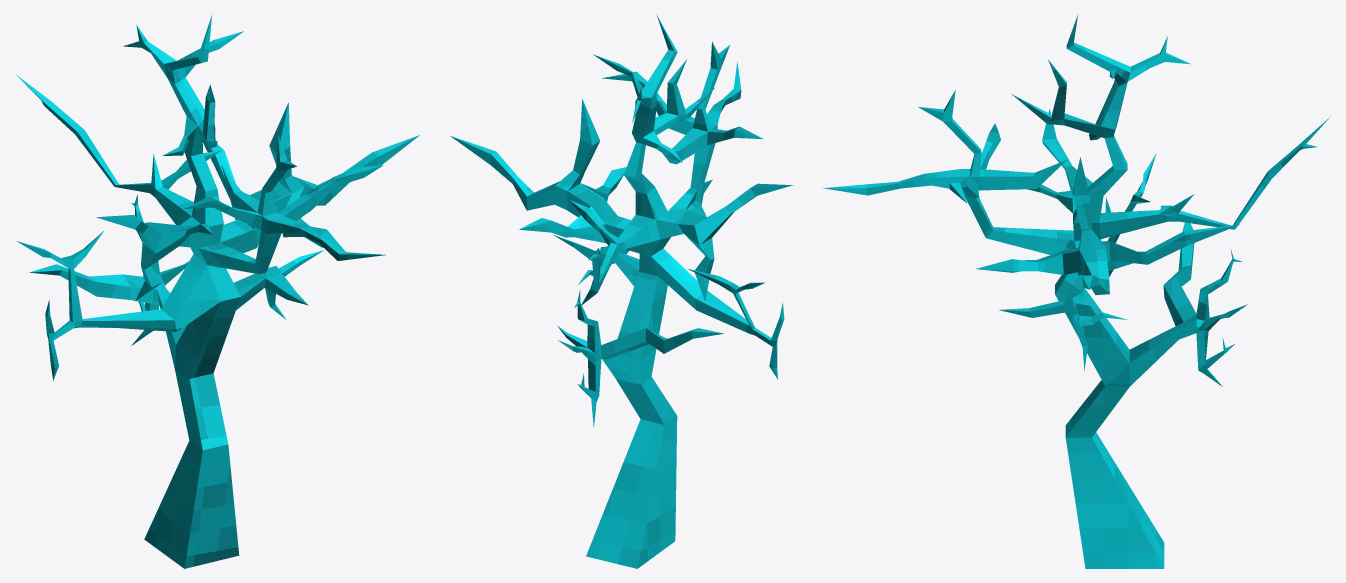
The model's file is IceTree.gltf.
The picture shows the model from 3 angles, left to right: view 1: azimuth 30°, elevation 25°; view 2: azimuth 150°, elevation 25°; view 3: azimuth 270°, elevation 25°; orthographic projection. The views are drawn at different scales.
Parts seen in each view (by area): view 1: Tree; view 2: Tree; view 3: Tree.
Part boxes in pixels (x1=…): Tree: x1=15, y1=14, x2=419, y2=568; Tree: x1=450, y1=15, x2=793, y2=568; Tree: x1=822, y1=15, x2=1330, y2=568.
Bounding box in the file's own units: 10.61 × 15.1 × 12.9.
1 material, 1 textured.
